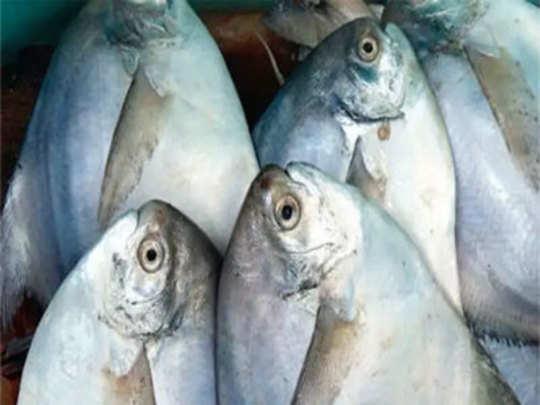Pomfret: (7, 3, 263, 306), (218, 161, 514, 402), (287, 13, 483, 341), (25, 198, 241, 404)
